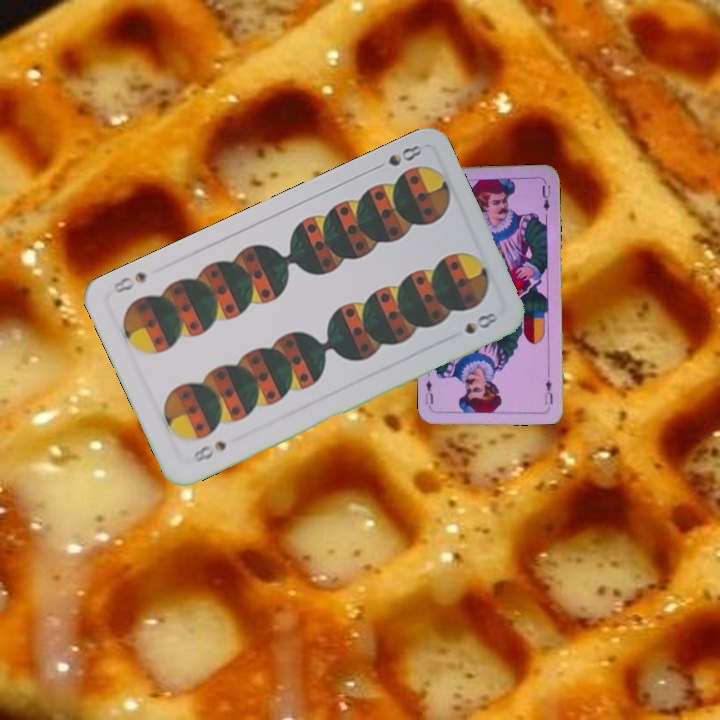EU: (541, 376, 555, 407)
S8: (368, 141, 425, 173), (189, 437, 229, 465)
